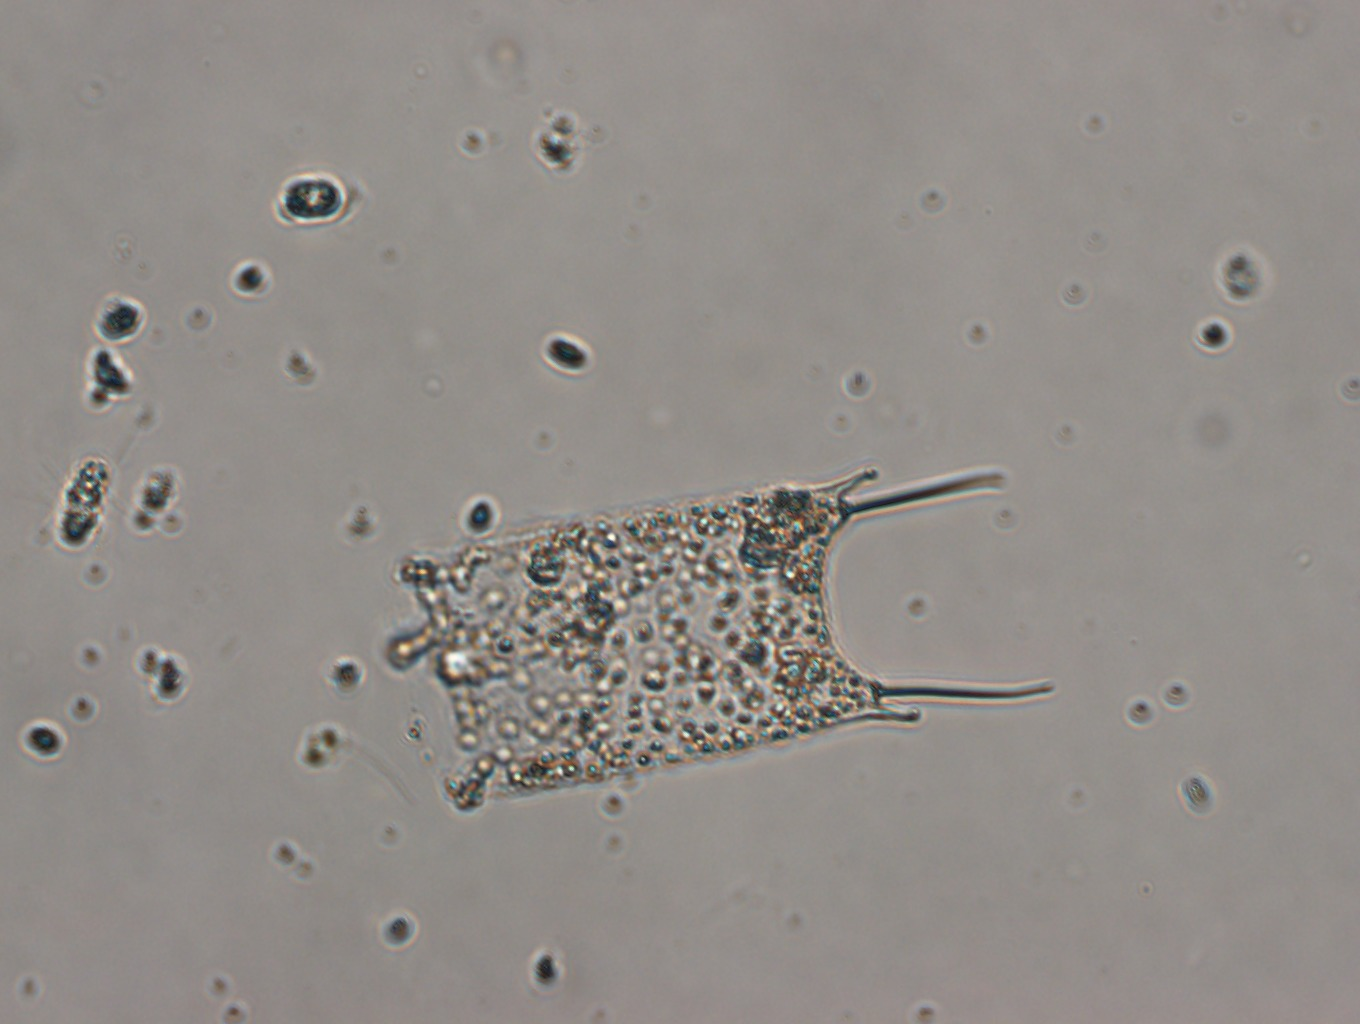biddulphia: (396, 464, 1057, 814)
